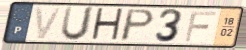3: (154, 8, 185, 44)
F: (183, 10, 218, 43)
H: (89, 7, 125, 44)
P: (117, 8, 157, 43)
U: (59, 5, 97, 43)
V: (34, 6, 65, 41)
